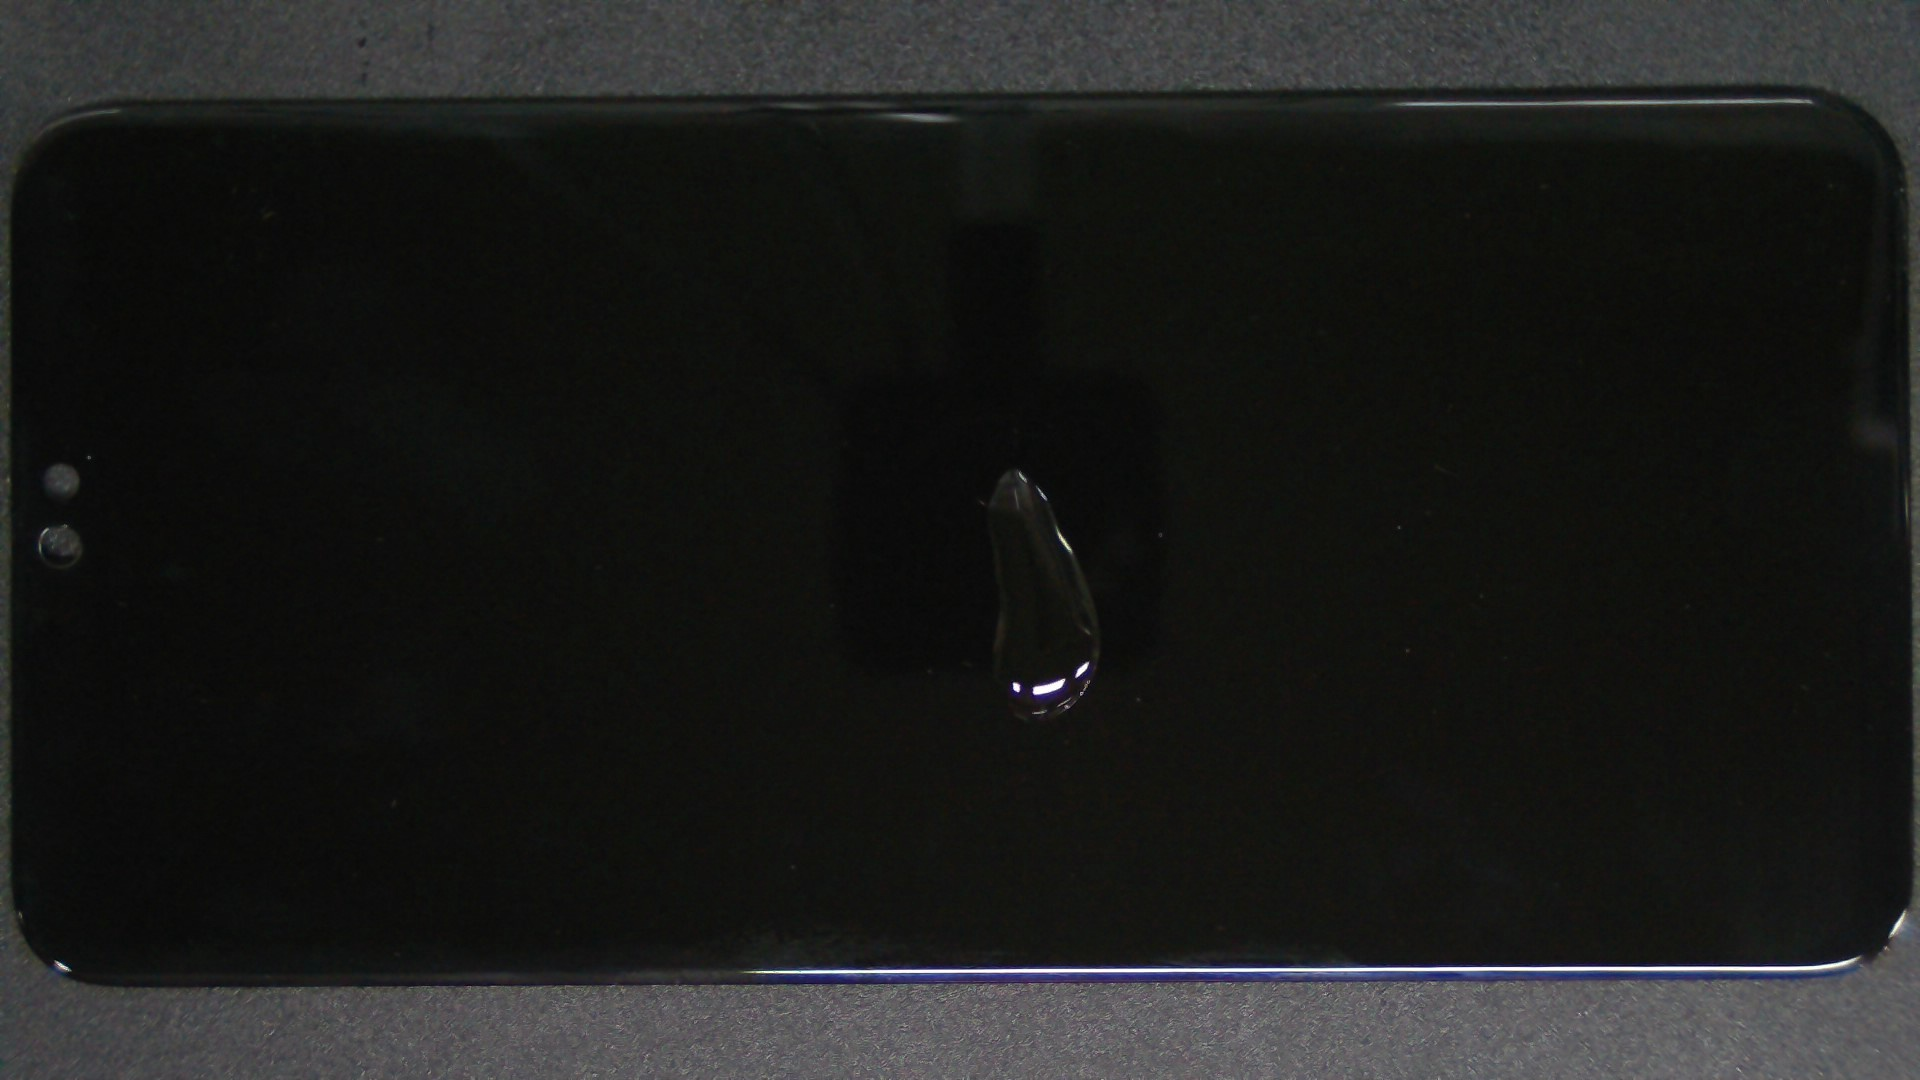oil: (506, 232, 1514, 702)
